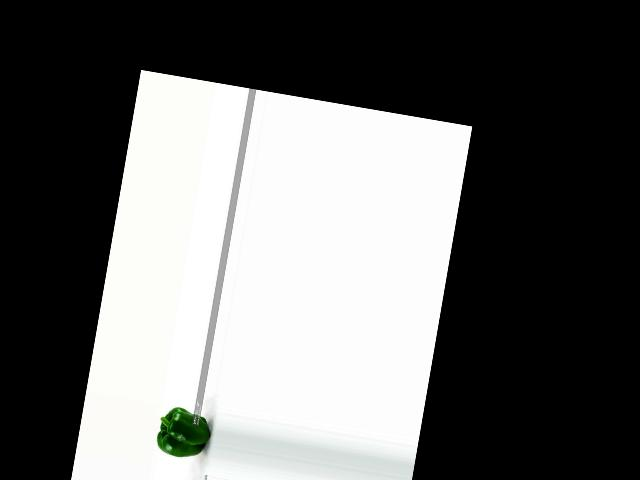bell_pepper: (151, 404, 215, 463)
